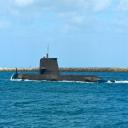submarine: (11, 59, 117, 84)
